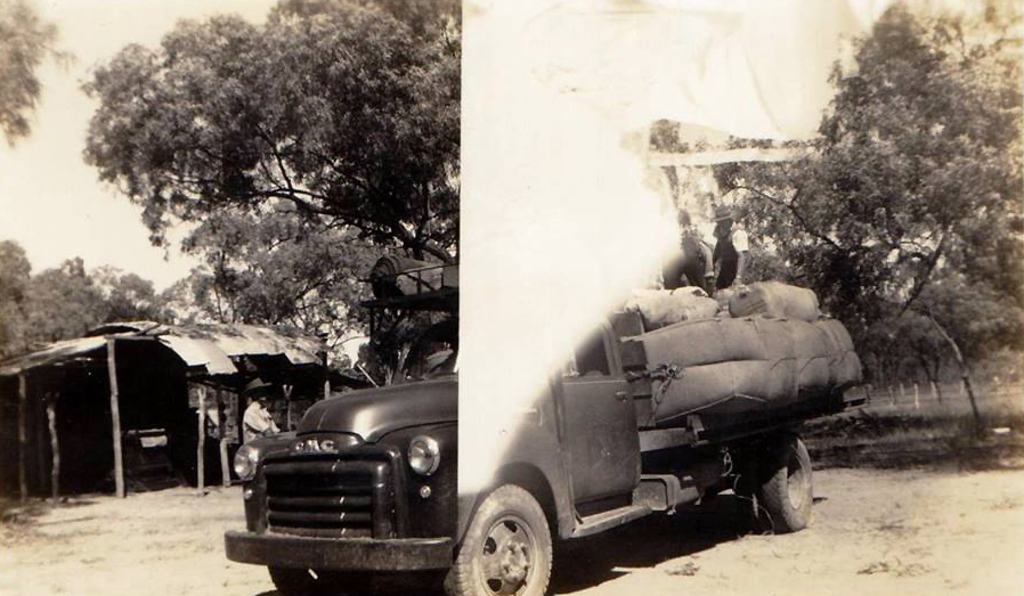truck: (216, 260, 862, 596)
